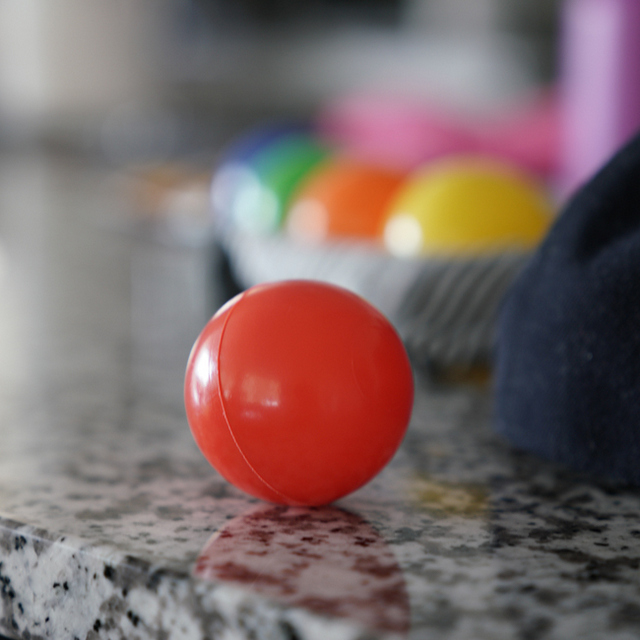Ball: (182, 277, 416, 508)
